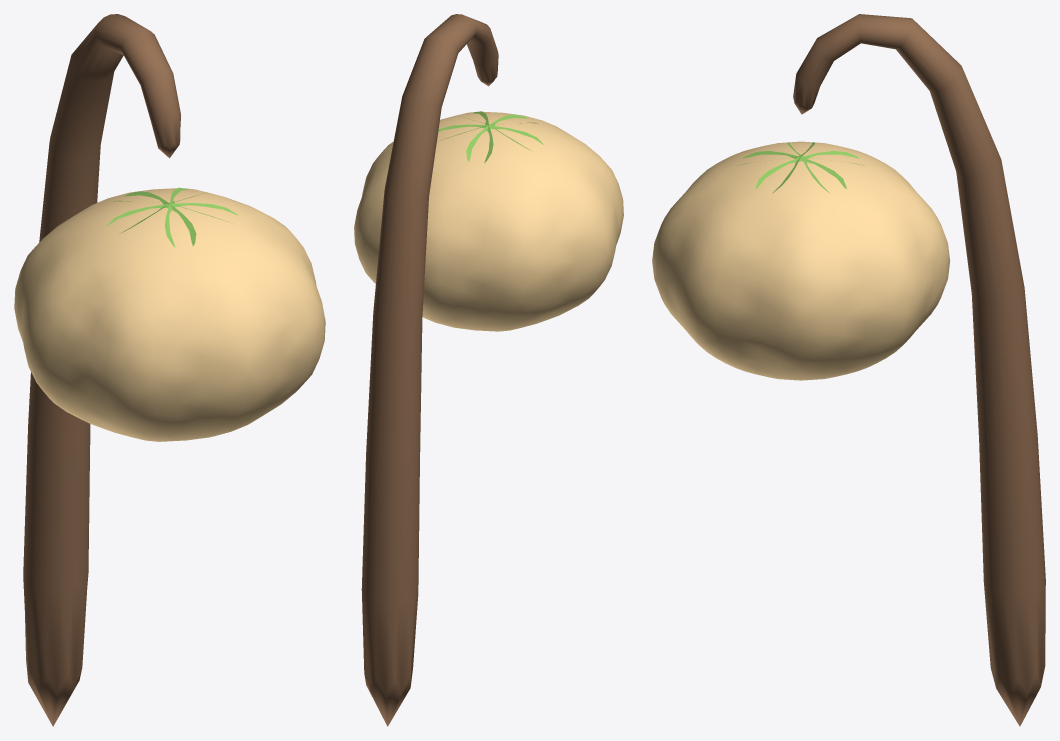
Rendered from SM_Forest_PetalLantern.fbx.
3 views of the same model, side by side, from view 1: azimuth 30°, elevation 25°; view 2: azimuth 150°, elevation 25°; view 3: azimuth 270°, elevation 25° (orthographic). The views are drawn at different scales.
Visible parts, largest first — view 1: SM_Forest_PetalLantern; view 2: SM_Forest_PetalLantern; view 3: SM_Forest_PetalLantern.
Part boxes in pixels (x1,y1,x2,y2): SM_Forest_PetalLantern: [14, 14, 325, 726]; SM_Forest_PetalLantern: [354, 14, 623, 726]; SM_Forest_PetalLantern: [652, 14, 1045, 726].
Size of the model in its own units: 56.99 by 150 by 75.36.
